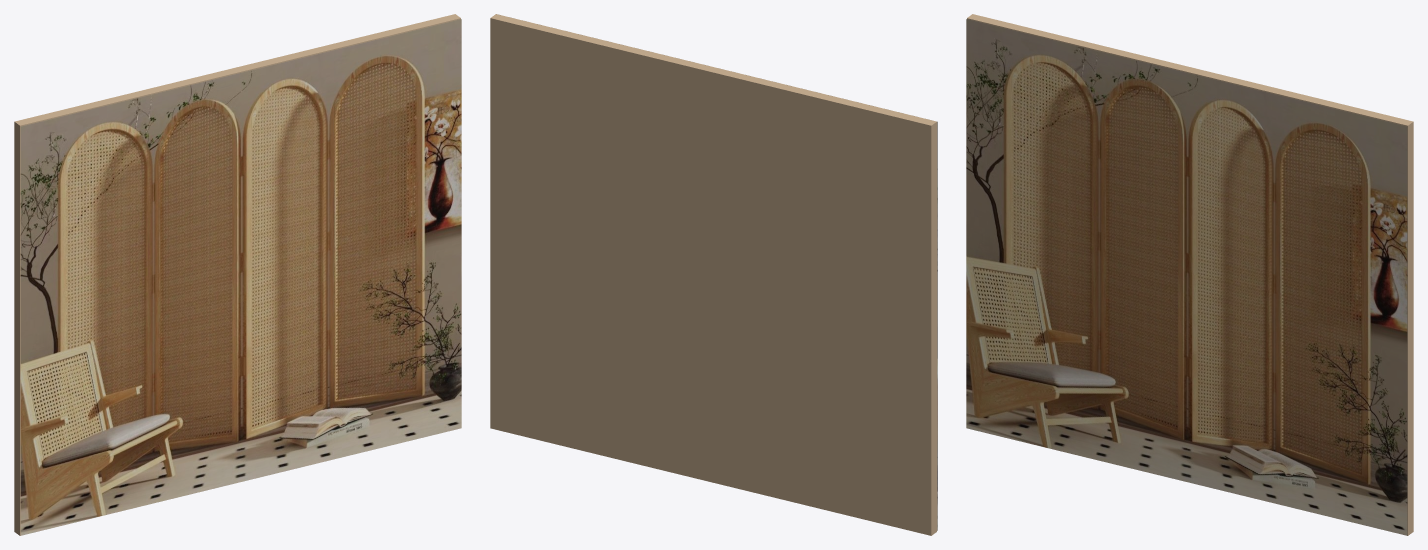
File: mocan-66.glb
3 renders of one model, left to right at view 1: azimuth 30°, elevation 25°; view 2: azimuth 150°, elevation 25°; view 3: azimuth 330°, elevation 25°, orthographic.
Parts seen in each view (by area): view 1: furniture; view 2: furniture; view 3: furniture.
Boxes of the visible parts, box(x1,y1,x2,y2) form: furniture: box(14, 14, 461, 535); furniture: box(490, 14, 937, 535); furniture: box(966, 14, 1413, 535).
Bounding box in the file's own units: 1.8 × 1.6 × 0.044.
Materials: 2 (1 with a texture image).
